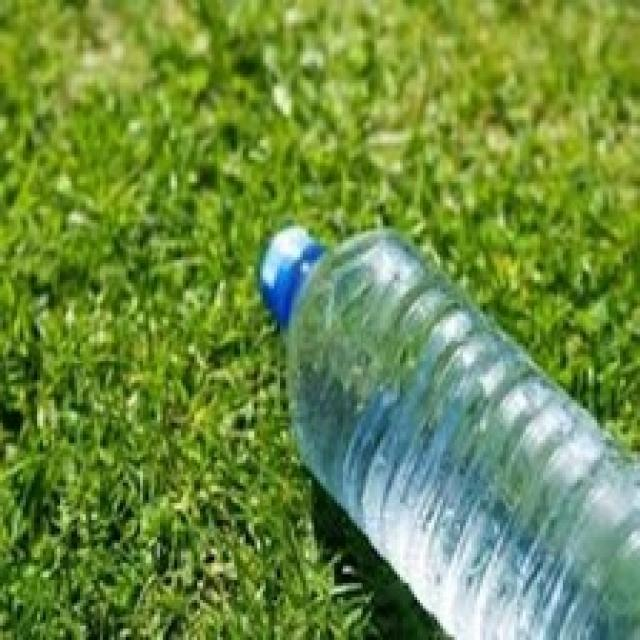Plastic: (260, 221, 640, 640)
